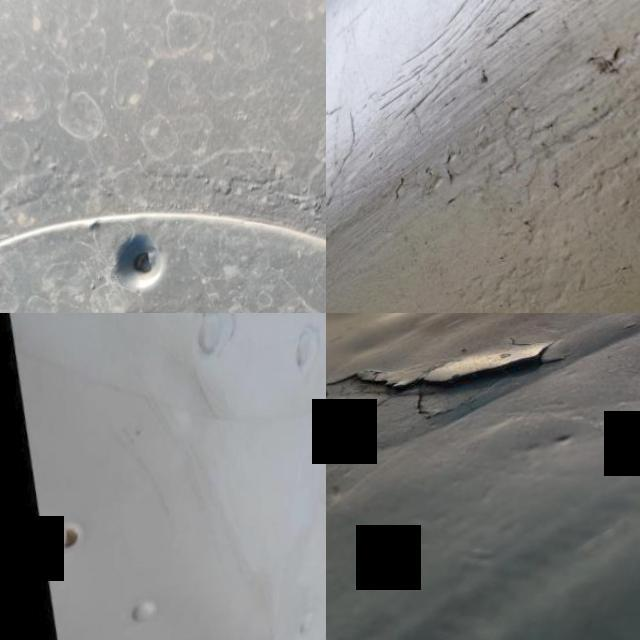Crack: (326, 331, 579, 438)
Dent: (153, 327, 232, 474), (270, 502, 325, 640)
Missing_Fastener: (108, 217, 180, 301)
